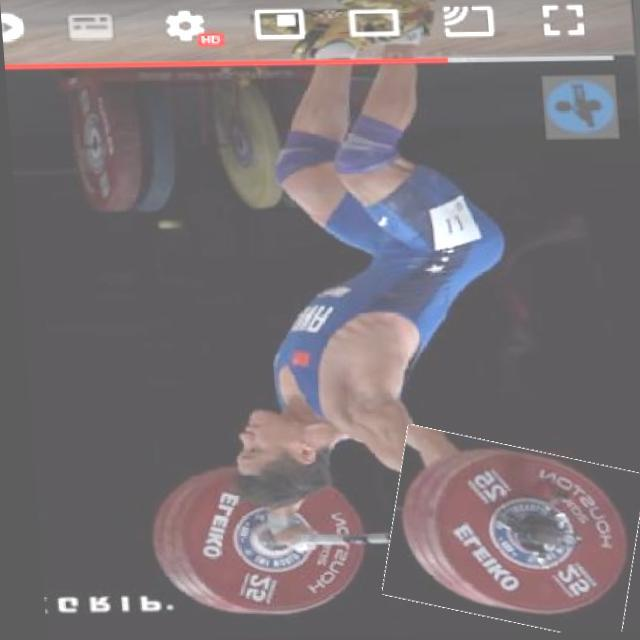barbell: (373, 437, 640, 637)
